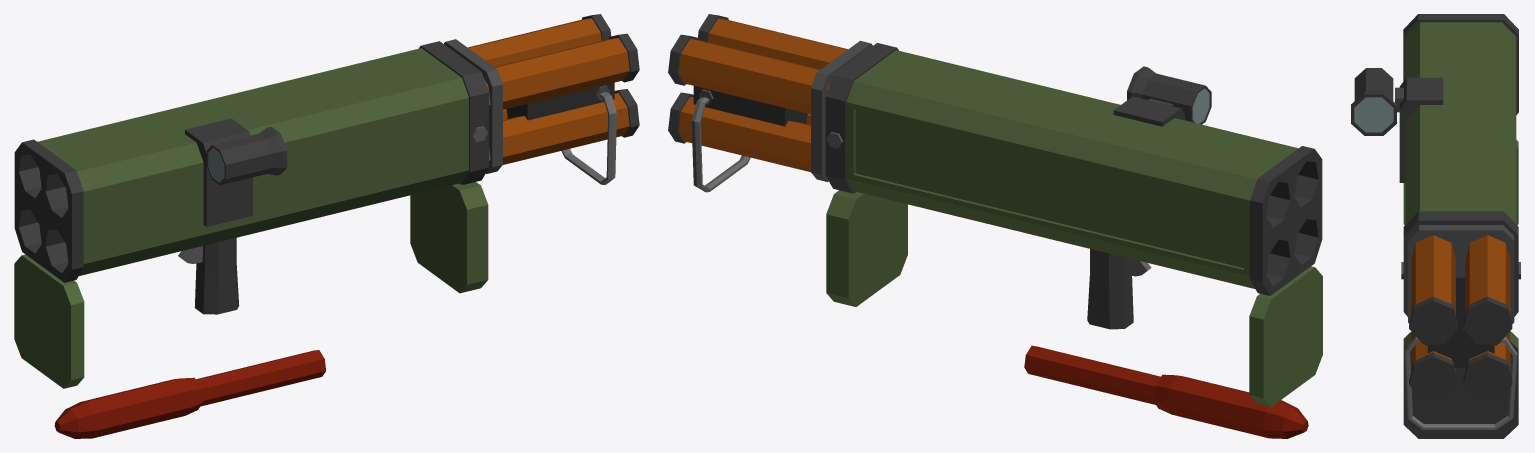
3 views of the same model, side by side, from view 1: azimuth 30°, elevation 25°; view 2: azimuth 150°, elevation 25°; view 3: azimuth 270°, elevation 25° (orthographic). The views are drawn at different scales.
Parts seen in each view (by area): view 1: M202A1, RocketMag, Rocket; view 2: M202A1, RocketMag, Rocket; view 3: M202A1, RocketMag, Scope Lens.
Boxes of the visible parts, x1,y1,x2,y2 form: M202A1: (14, 41, 488, 388); RocketMag: (444, 14, 639, 184); Rocket: (54, 350, 325, 438); M202A1: (825, 43, 1322, 406); RocketMag: (668, 14, 872, 192); Rocket: (1024, 345, 1308, 438); M202A1: (1351, 14, 1520, 438); RocketMag: (1404, 225, 1517, 429); Scope Lens: (1354, 97, 1393, 132).
Bounding box in the file's own units: 931 × 449 × 237.
3 materials, 2 textured.
